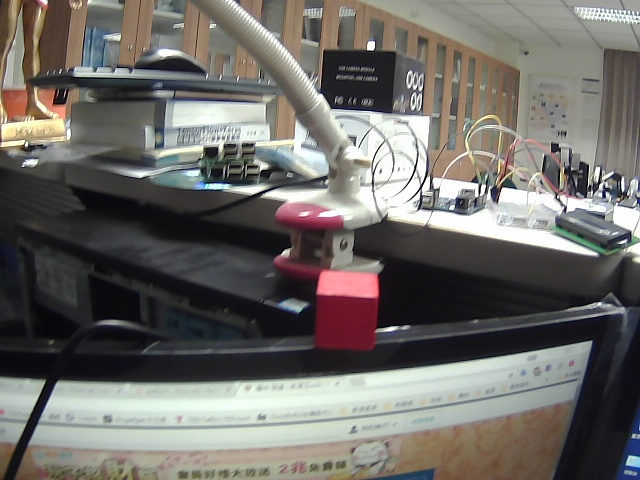redbox: (306, 265, 398, 355)
